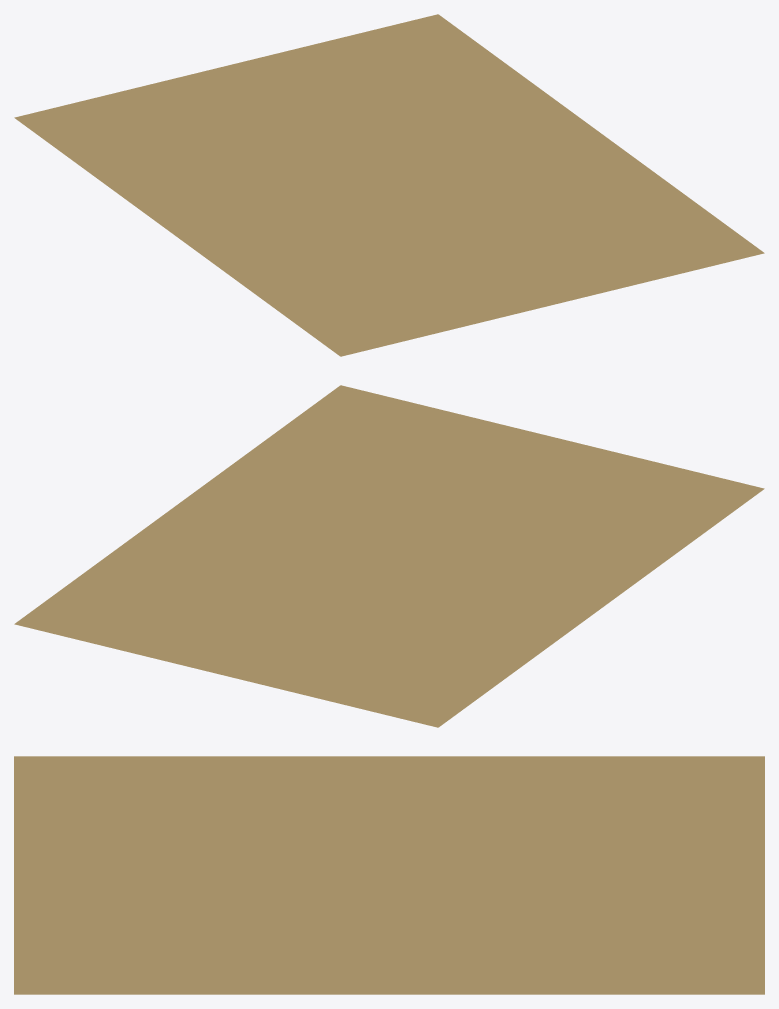
File: northroad.glb
The picture shows the model from 3 angles, top to bottom: view 1: azimuth 30°, elevation 25°; view 2: azimuth 150°, elevation 25°; view 3: azimuth 270°, elevation 25°; orthographic projection. The views are drawn at different scales.
Parts seen in each view (by area): view 1: northroad; view 2: northroad; view 3: northroad.
Boxes of the visible parts, x1,y1,x2,y2 form: northroad: [14, 14, 764, 356]; northroad: [14, 385, 764, 727]; northroad: [14, 756, 764, 994].
Bounding box in the file's own units: 6 × 0 × 8.
